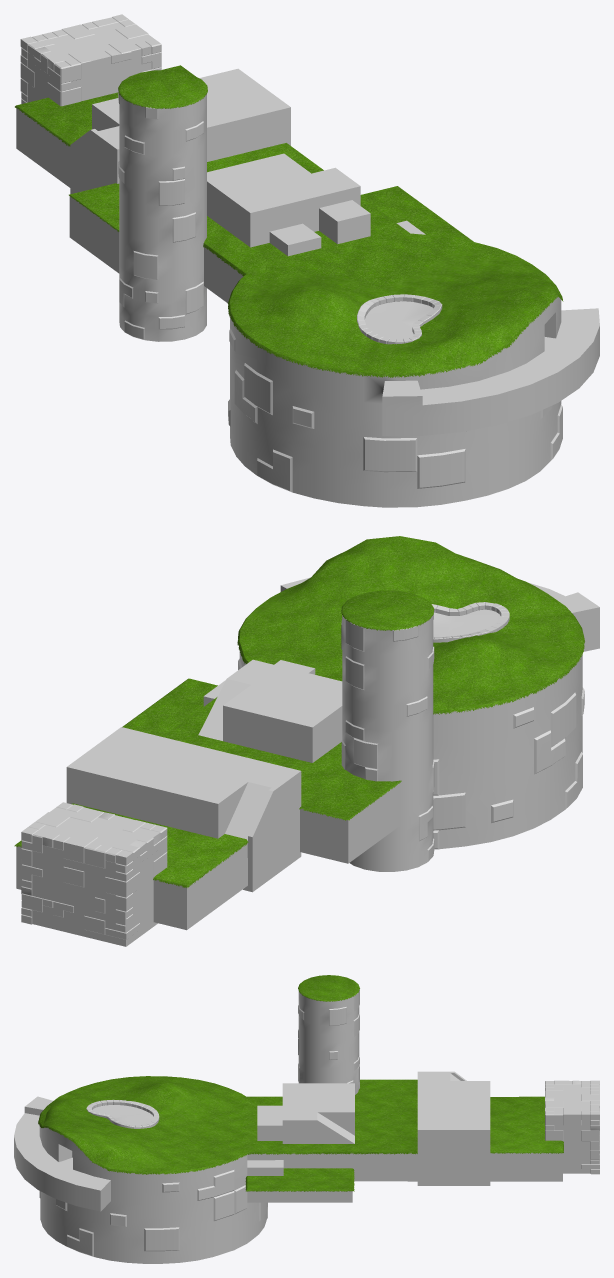
Rendered from SM_world_1_01.fbx.
The picture shows the model from 3 angles, top to bottom: view 1: azimuth 30°, elevation 25°; view 2: azimuth 150°, elevation 25°; view 3: azimuth 270°, elevation 25°; orthographic projection. The views are drawn at different scales.
Parts seen in each view (by area): view 1: Main_mesh; view 2: Main_mesh; view 3: Main_mesh.
Part boxes in pixels (x1=…): Main_mesh: x1=15, y1=14, x2=599, y2=507; Main_mesh: x1=14, y1=536, x2=599, y2=946; Main_mesh: x1=14, y1=975, x2=599, y2=1263.
Bounding box in the file's own units: 6777 × 16167 × 5888.
